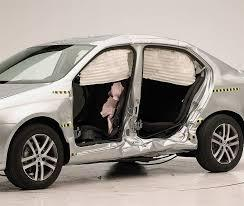RunningBoard-Dent: (84, 132, 202, 155)
doorouter-dent: (139, 39, 212, 120)
